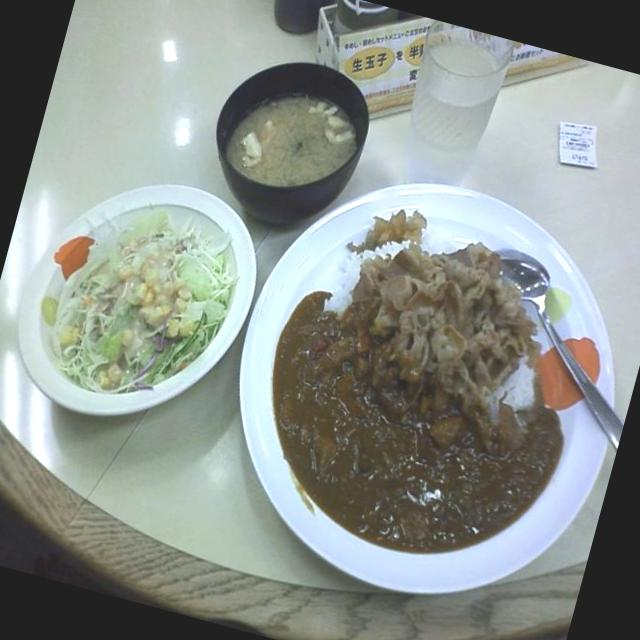Beef Curry: (215, 262, 598, 604)
